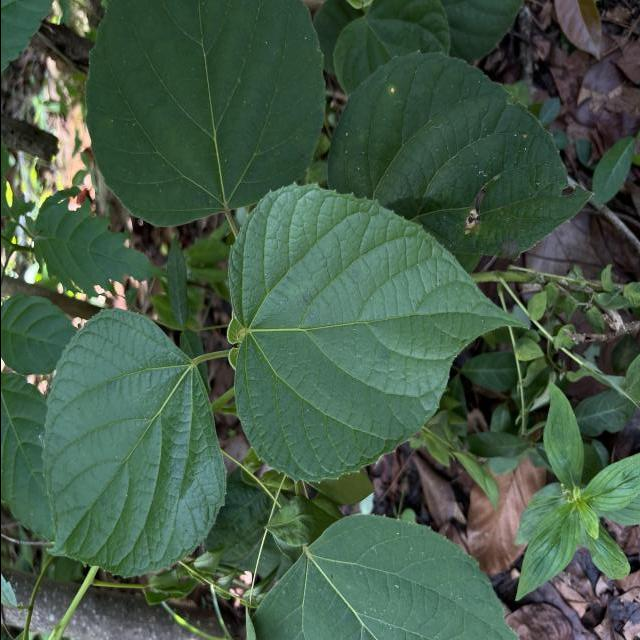Clerodendrum infortunatum: (225, 178, 532, 484), (37, 306, 228, 580)
